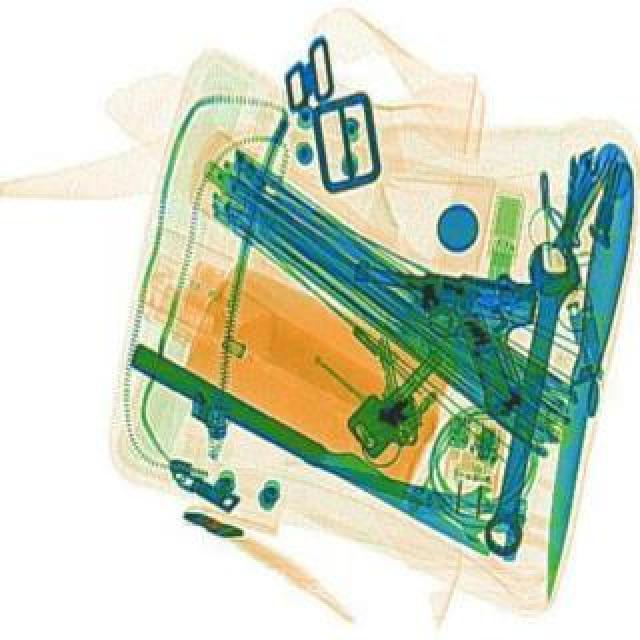gun: (342, 256, 546, 416)
knife: (130, 340, 508, 556), (532, 168, 640, 600), (298, 438, 506, 544)
scissors: (476, 240, 590, 556)
